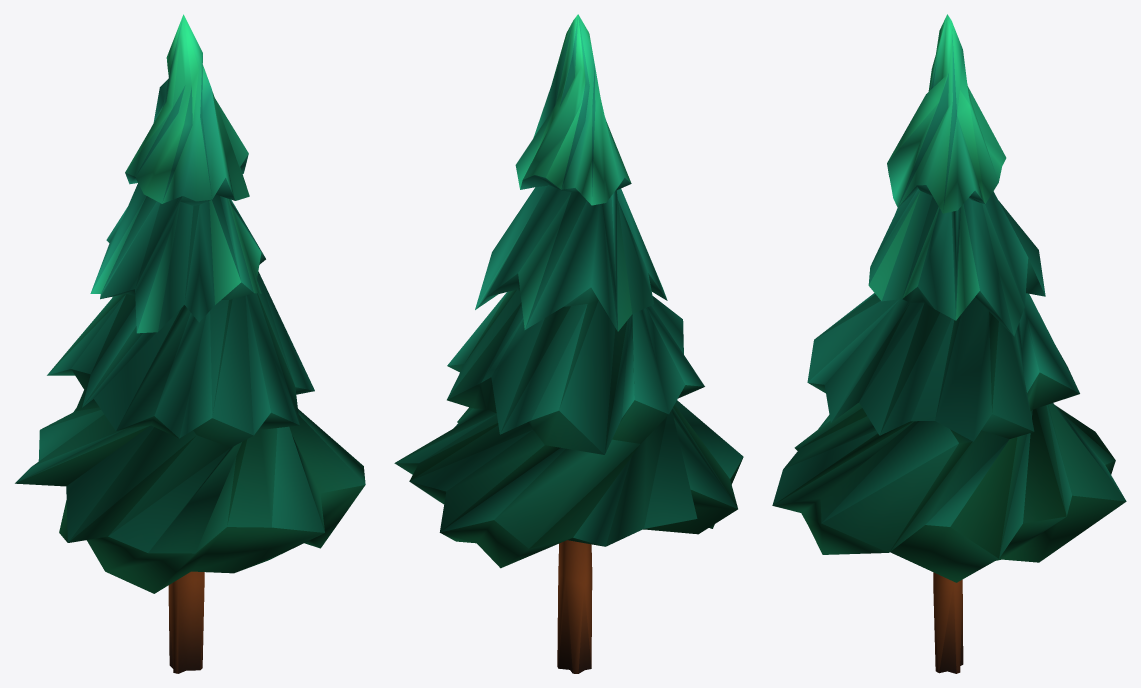
Rendered from Pine_Tree_2B.fbx.
3 renders of one model, left to right at view 1: azimuth 30°, elevation 25°; view 2: azimuth 150°, elevation 25°; view 3: azimuth 270°, elevation 25°, orthographic.
Visible parts, largest first — view 1: Pine_Tree_2B; view 2: Pine_Tree_2B; view 3: Pine_Tree_2B.
Part boxes in pixels (<box>): Pine_Tree_2B: <box>15,14,365,673</box>; Pine_Tree_2B: <box>394,14,743,673</box>; Pine_Tree_2B: <box>772,14,1126,673</box>.
Bounding box in the file's own units: 336 × 693 × 341.
